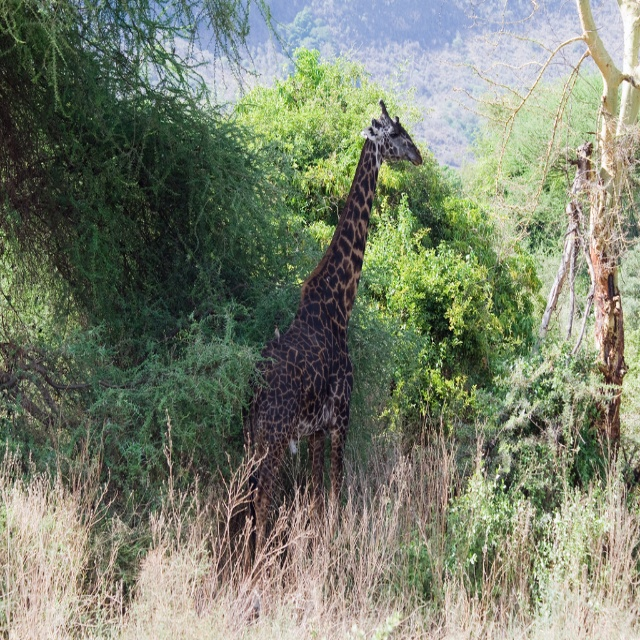Giraffe: (244, 100, 422, 586)
